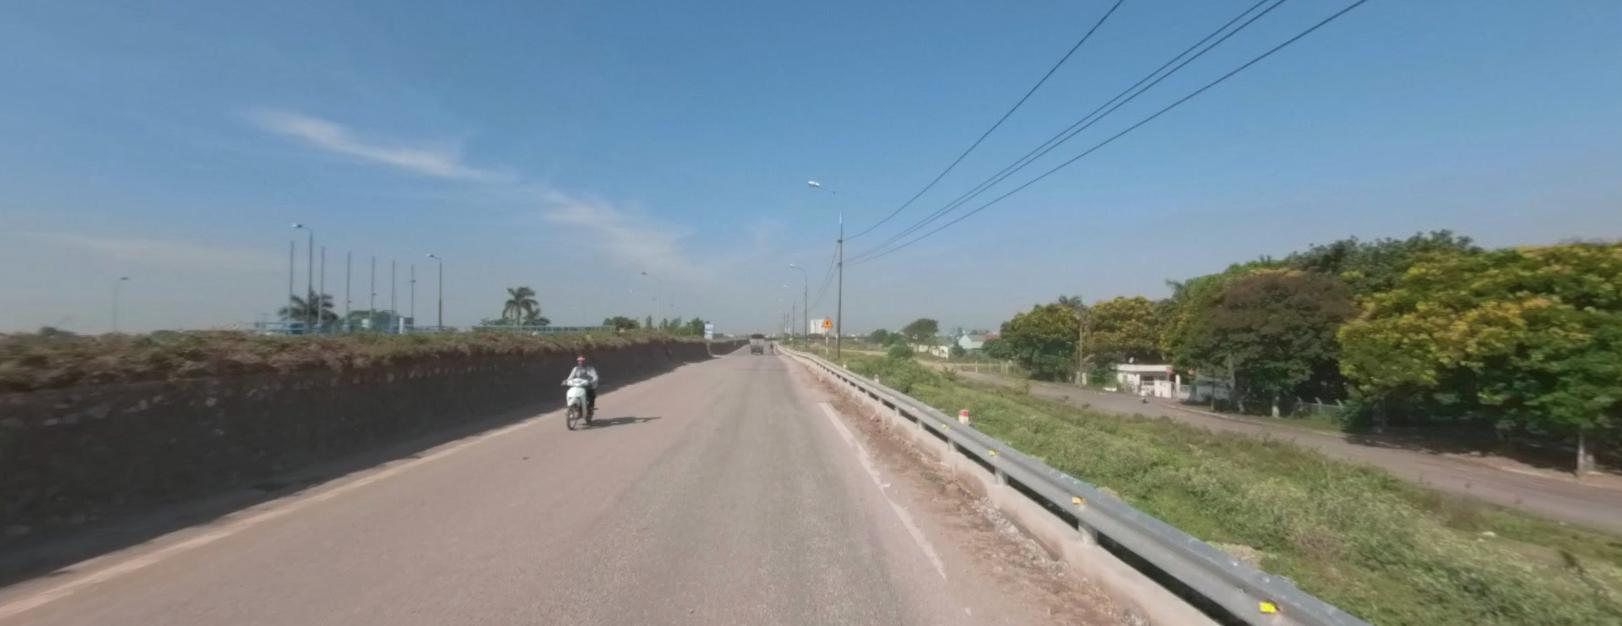Nguy hiem: (820, 314, 832, 325)
